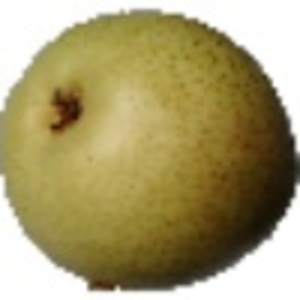pera: (1, 8, 300, 295)
